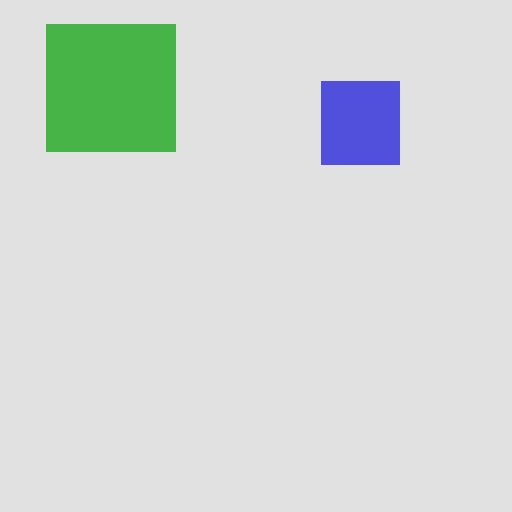tall_box: (321, 81, 399, 164)
wide_box: (46, 24, 175, 151)
